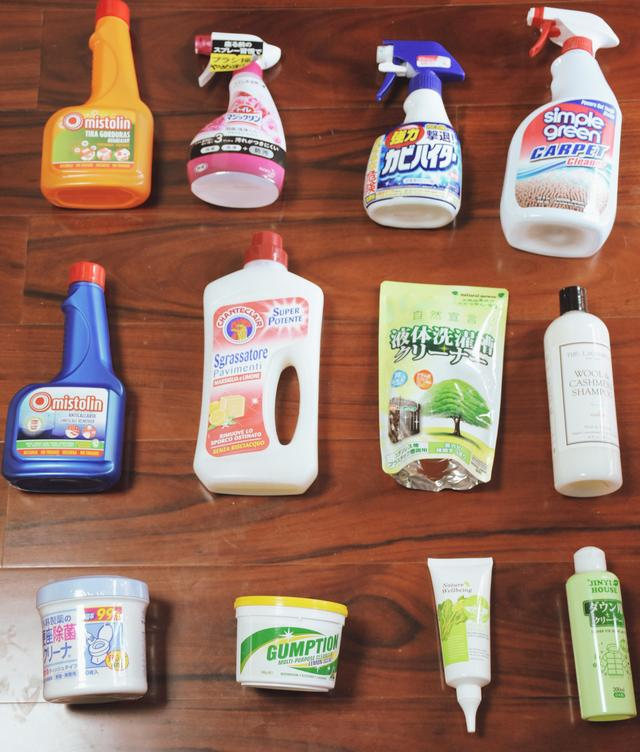cleaner: (187, 228, 326, 503), (498, 7, 622, 257), (5, 254, 132, 497), (30, 1, 162, 215), (183, 30, 293, 213), (363, 37, 466, 231)
